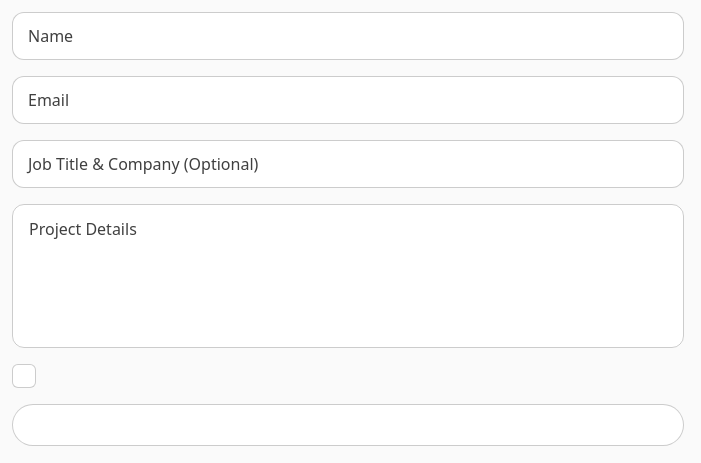
it: ContactForm › shows email verification card on valid form submission
The width and height of the screenshot is (701, 463).
Type "Roman Jumatov" into the field labelled "Name" at (348, 36), box [12,12,684,60]
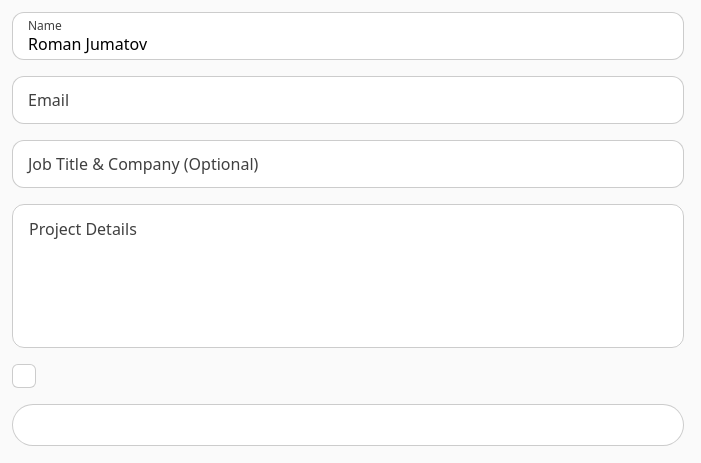
Type "roman@jumatov.com" into the field labelled "Email" at (348, 100), box [12,76,684,124]
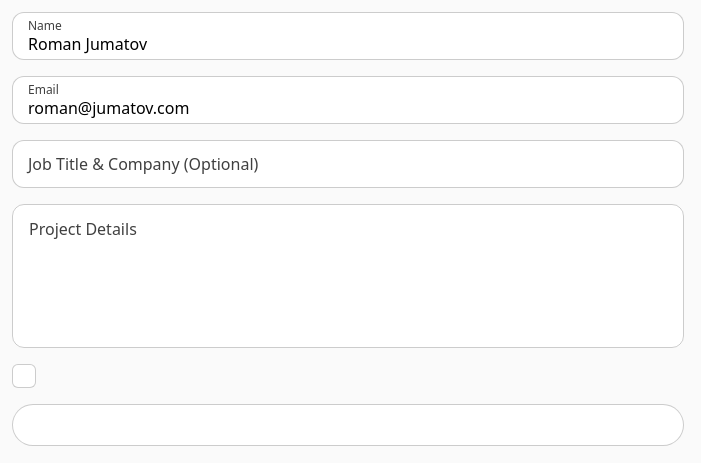
Type "Freelance Software Developer" into the field labelled "Job Title & Company (Optional)" at (348, 164), box [12,140,684,188]
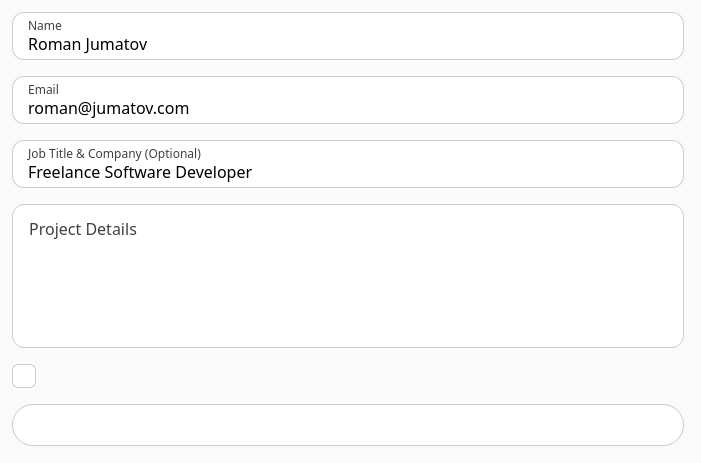
Type "Hey there, I have something in mind." into the text box labelled "Project Details" at (348, 285), box [13,225,683,345]
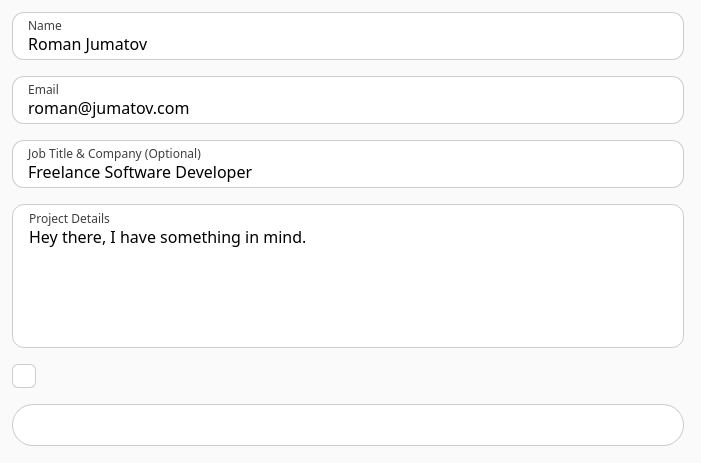
Click the checkbox at (24, 376), box [12,364,36,388]
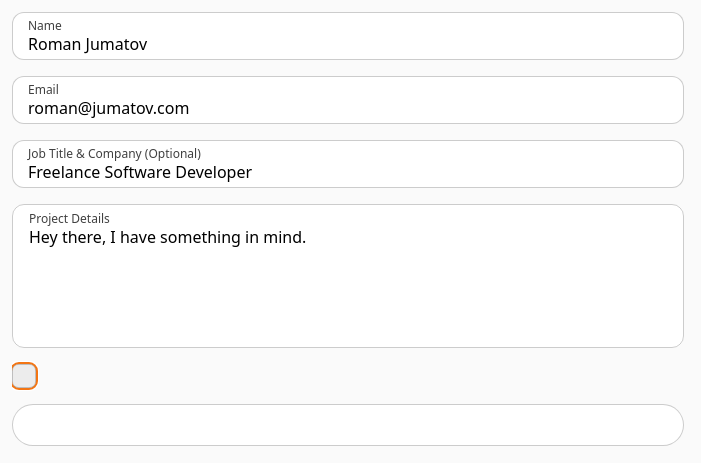
Click the button at (348, 425), box [12,404,684,446]
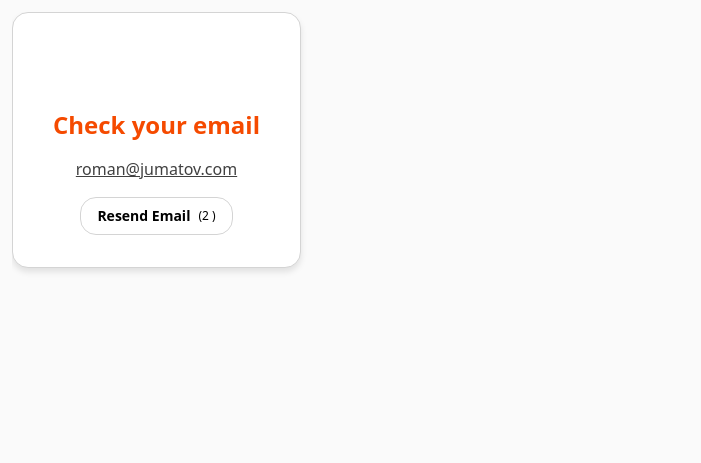
Expected: the heading "Check your email" is shown, [53,109,260,141]
